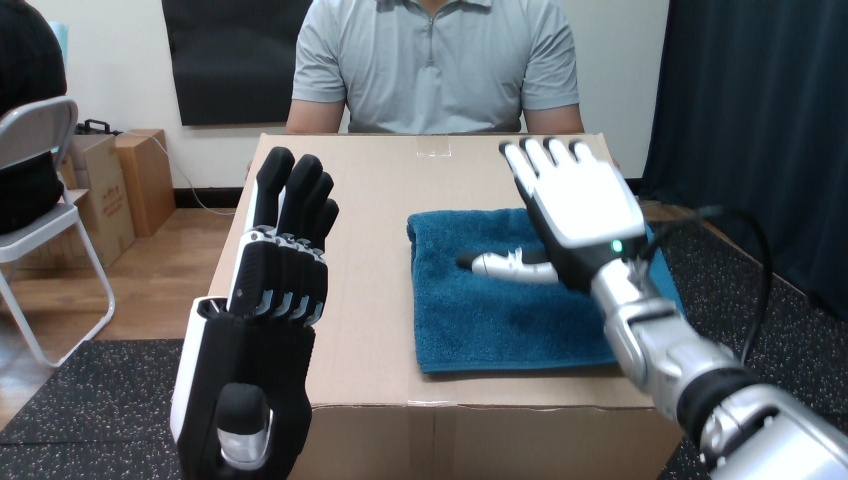left robot hand: (458, 138, 847, 478), (170, 147, 338, 478)
